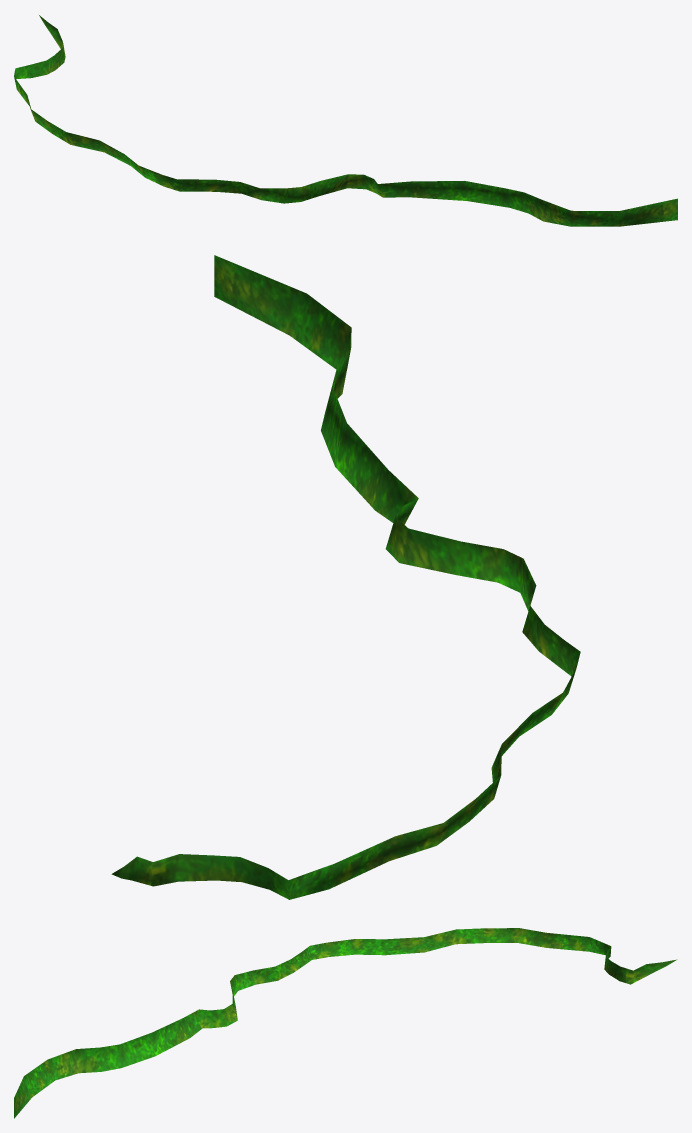
The model's file is EKH_ENTRANCE_PS_EN_GRASSBLEND039376.fbx.
3 renders of one model, top to bottom at view 1: azimuth 30°, elevation 25°; view 2: azimuth 150°, elevation 25°; view 3: azimuth 270°, elevation 25°, orthographic. The views are drawn at different scales.
Parts seen in each view (by area): view 1: EKH_ENTRANCE_PS_EN_GRASSBLEND039376; view 2: EKH_ENTRANCE_PS_EN_GRASSBLEND039376; view 3: EKH_ENTRANCE_PS_EN_GRASSBLEND039376.
Boxes of the visible parts, left/top/right/bottom form: EKH_ENTRANCE_PS_EN_GRASSBLEND039376: left=14, top=15, right=677, bottom=226; EKH_ENTRANCE_PS_EN_GRASSBLEND039376: left=111, top=255, right=580, bottom=899; EKH_ENTRANCE_PS_EN_GRASSBLEND039376: left=14, top=928, right=677, bottom=1118.
Bounding box in the file's own units: 132815 × 8327 × 207879.
Materials: 1 (1 with a texture image).
